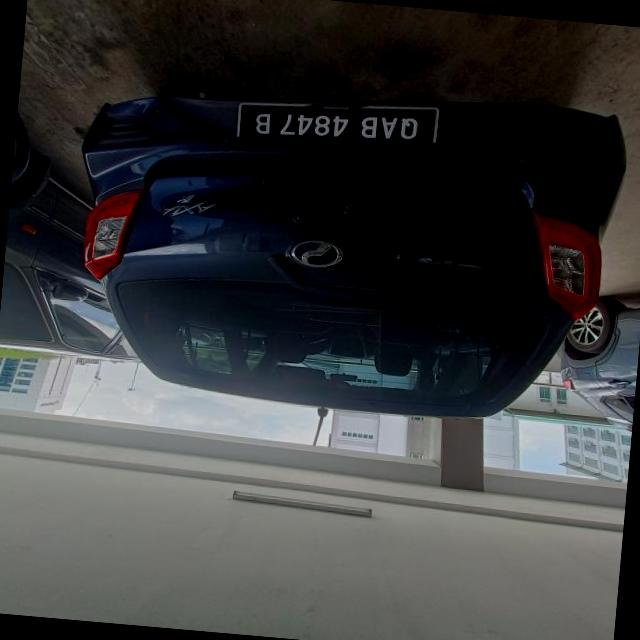PeroduaAxia: (59, 63, 631, 436)
